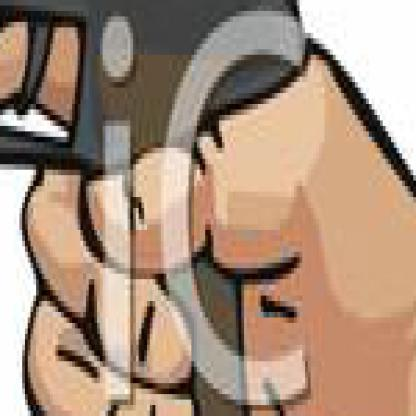gun: (0, 0, 308, 411)
